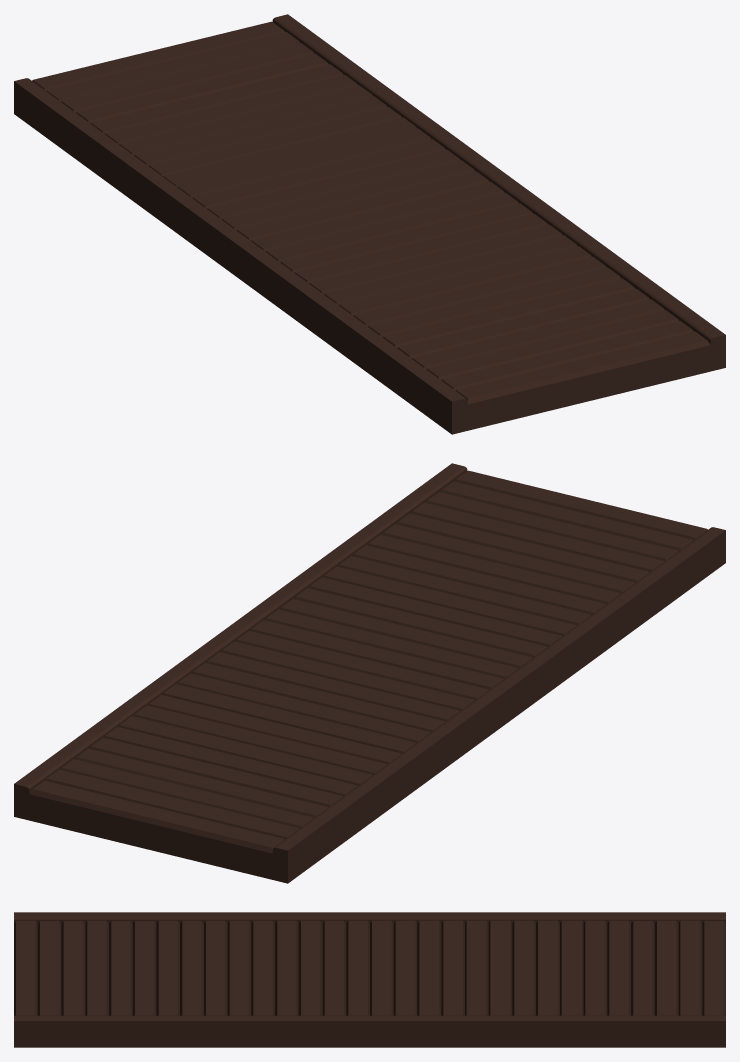
File: Piso_Color.fbx
The picture shows the model from 3 angles, top to bottom: view 1: azimuth 30°, elevation 25°; view 2: azimuth 150°, elevation 25°; view 3: azimuth 270°, elevation 25°; orthographic projection. The views are drawn at different scales.
Visible parts, largest first — view 1: Puente.001; view 2: Puente.001; view 3: Puente.001.
Boxes of the visible parts, x1,y1,x2,y2 form: Puente.001: (14, 14, 725, 434); Puente.001: (14, 463, 725, 883); Puente.001: (14, 912, 725, 1047).
Size of the model in its own units: 1965 by 226 by 5443.
